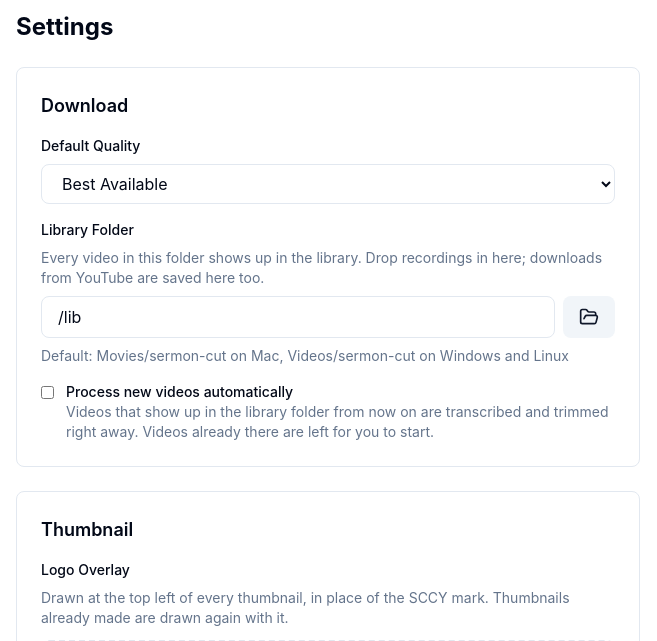
Test case: Settings autosave › saves a click made as soon as the settings show
What coordinates should you click on to do the following:
click the checkbox
I would click on:
 (48, 392)
Its box is [41,386,54,399].
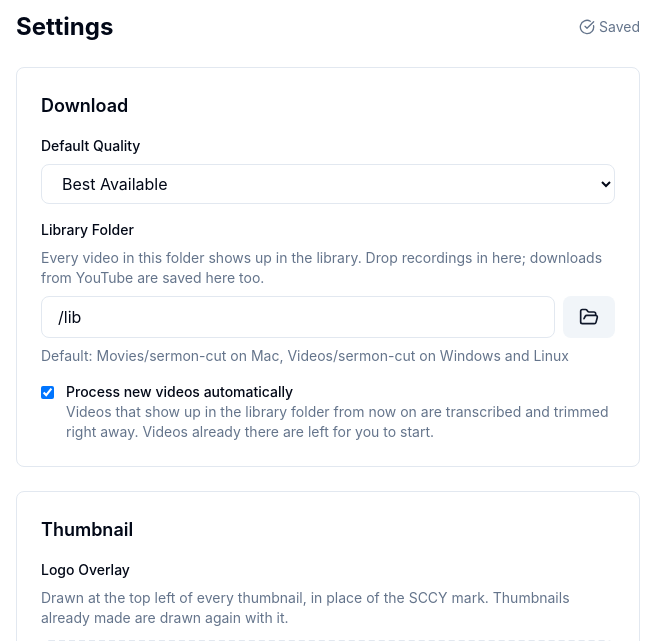
expect the text "Saved" is shown: met, box [579,17,640,37]
